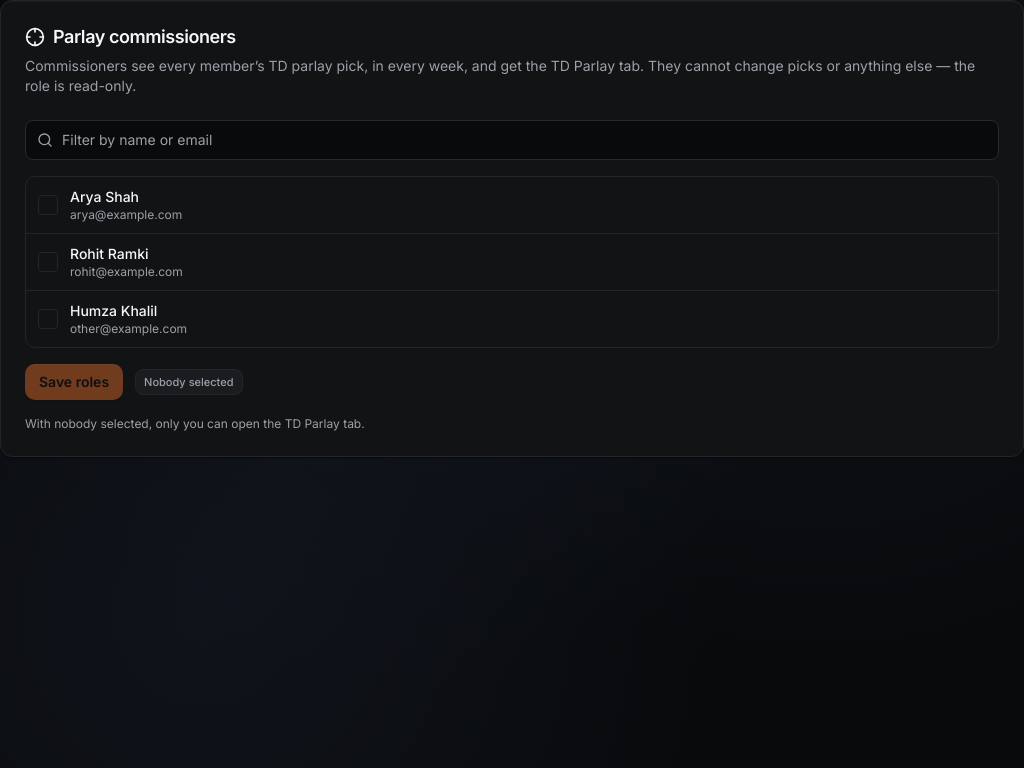
Test: LeagueRolesManager › filters by name or email
Step 1. Type "rohit@" into the field named "filter members" → (512, 140), box 25,120 -> 999,160
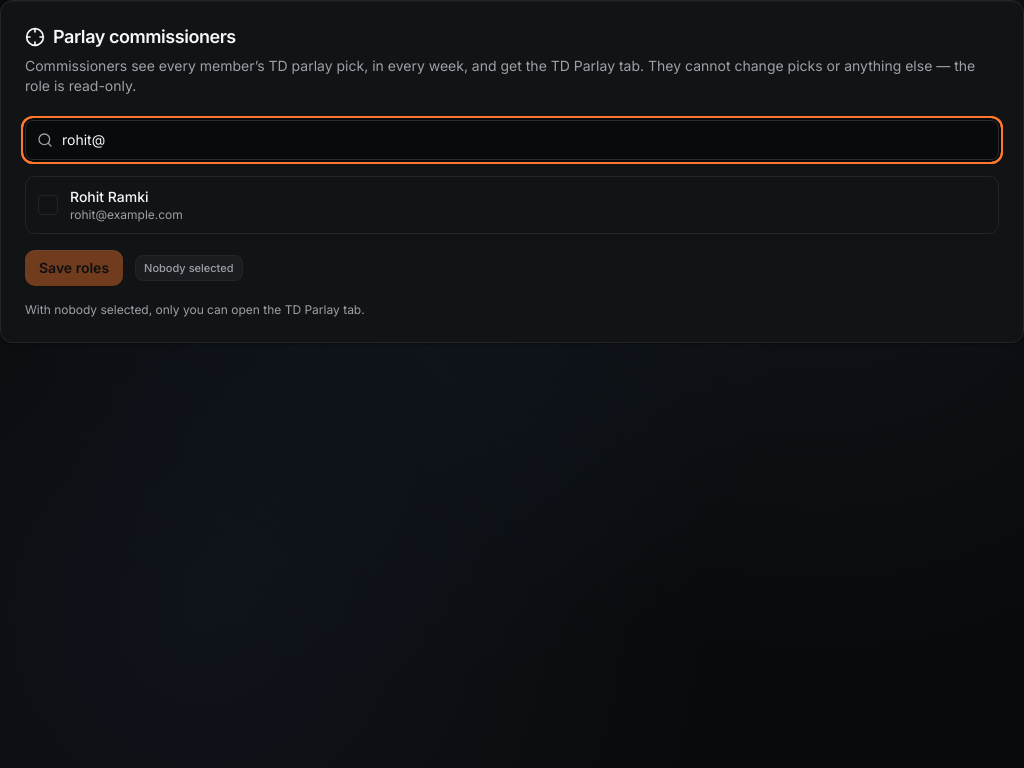
Expected: the text "Rohit Ramki" is shown, 70,188 -> 148,205
Expected: the checkbox "Arya Shah" is gone
